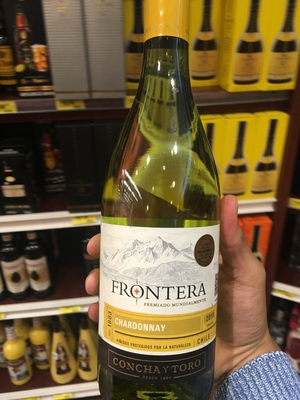frontera chardonnay: (93, 14, 228, 400)
